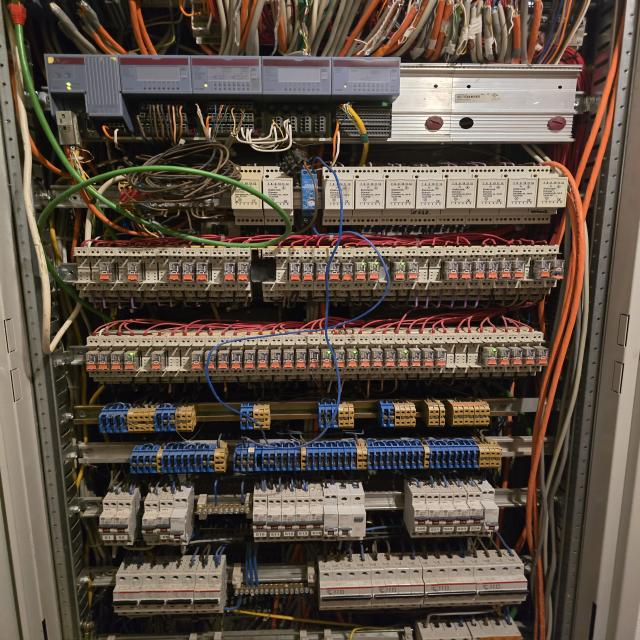Dimmer: (521, 166, 568, 224), (493, 166, 538, 224), (465, 166, 508, 224), (436, 166, 478, 225), (408, 166, 447, 225), (380, 167, 416, 225), (351, 166, 385, 225), (322, 167, 354, 225), (233, 166, 263, 226), (264, 166, 294, 225), (300, 168, 318, 215)
FI_Sicherungskombi: (336, 494, 366, 540)
Relais: (98, 262, 114, 282), (168, 262, 182, 282), (127, 263, 141, 282), (196, 262, 209, 282), (445, 262, 458, 282), (182, 263, 195, 282), (512, 261, 525, 280), (551, 260, 564, 279), (289, 263, 301, 283), (223, 264, 236, 282), (237, 263, 250, 281), (407, 262, 420, 280), (459, 262, 472, 280), (537, 261, 550, 279), (110, 353, 123, 371), (472, 261, 484, 280), (499, 260, 511, 279), (368, 262, 380, 280), (486, 261, 498, 279), (486, 349, 498, 367), (511, 348, 523, 366), (537, 348, 549, 366), (342, 263, 353, 282), (355, 262, 366, 281), (394, 262, 405, 281), (151, 354, 163, 371), (191, 354, 203, 371), (204, 354, 216, 371), (316, 263, 327, 281), (98, 353, 109, 371), (124, 353, 135, 371), (244, 352, 255, 370), (524, 348, 535, 366), (308, 352, 320, 368), (303, 263, 313, 282), (329, 263, 340, 280), (86, 354, 97, 371), (231, 353, 242, 370), (270, 352, 281, 369), (347, 351, 358, 368), (372, 351, 383, 368), (398, 350, 409, 367), (321, 351, 331, 369), (500, 349, 510, 367), (385, 351, 396, 367), (284, 352, 294, 369), (360, 351, 370, 368), (410, 351, 420, 368), (436, 350, 446, 367), (218, 354, 229, 369), (258, 353, 268, 369), (296, 352, 306, 368), (334, 352, 344, 368), (424, 351, 434, 367)
SPS-System -Steuerungskomponente-: (44, 53, 118, 93), (118, 55, 192, 94), (190, 54, 261, 94), (330, 57, 400, 95), (263, 55, 331, 94)
Sicherungen_230V: (165, 573, 198, 614), (112, 574, 144, 615), (138, 574, 170, 614), (193, 573, 223, 614), (478, 490, 499, 537), (98, 500, 119, 546), (169, 497, 188, 544), (437, 493, 457, 537), (450, 493, 470, 537), (464, 492, 484, 536), (113, 500, 132, 545), (141, 501, 160, 545), (423, 493, 442, 537), (156, 500, 174, 544), (411, 493, 428, 537), (253, 496, 268, 542), (310, 496, 324, 542), (282, 497, 296, 542), (324, 494, 337, 541), (268, 497, 281, 542), (296, 496, 309, 541)
Sicherungen_400V: (495, 564, 529, 605), (394, 568, 425, 608), (471, 566, 502, 606), (369, 569, 399, 609), (421, 567, 451, 607), (447, 566, 477, 606), (344, 570, 372, 610), (319, 571, 346, 610)
Verbinder: (233, 437, 502, 472), (130, 444, 225, 473), (98, 405, 196, 432), (448, 399, 489, 426), (316, 402, 354, 429), (379, 400, 416, 427), (240, 402, 270, 430), (423, 400, 445, 426)
